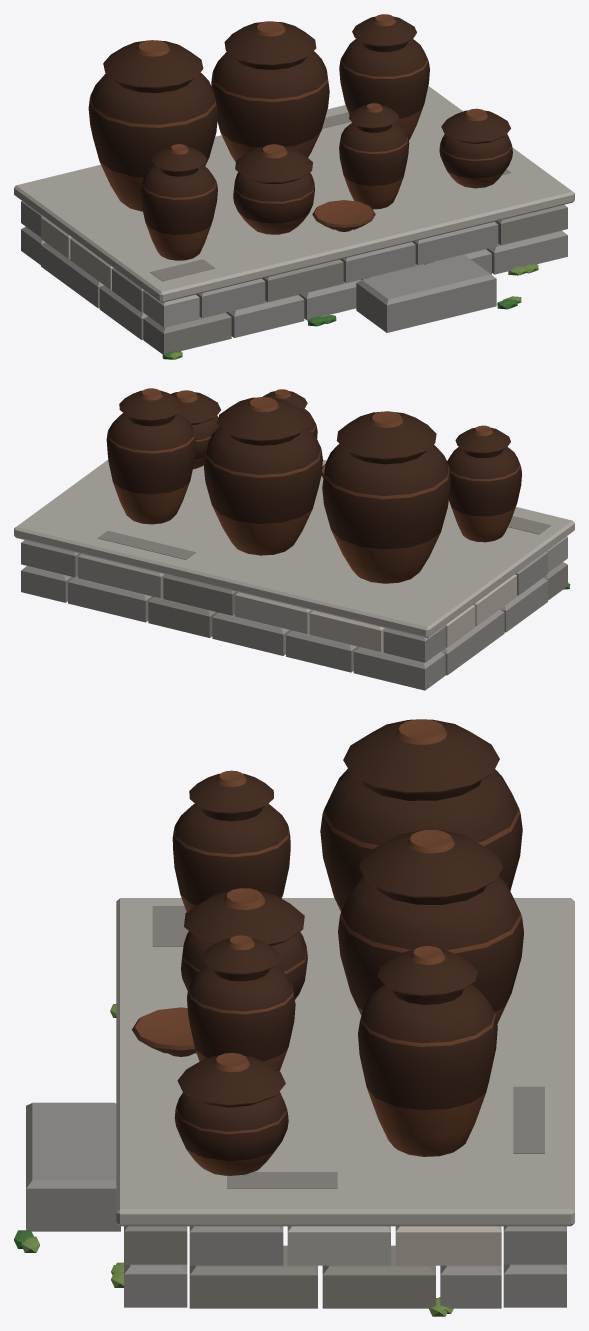
File: SC_Home_Jangdokdae.gltf
3 views of the same model, one above another, from view 1: azimuth 30°, elevation 25°; view 2: azimuth 150°, elevation 25°; view 3: azimuth 270°, elevation 25° (orthographic). The views are drawn at different scales.
Visible parts, largest first — view 1: SC_Home_Jangdokdae; view 2: SC_Home_Jangdokdae; view 3: SC_Home_Jangdokdae.
Boxes of the visible parts, x1=… form: SC_Home_Jangdokdae: x1=14, y1=14, x2=574, y2=359; SC_Home_Jangdokdae: x1=14, y1=388, x2=574, y2=690; SC_Home_Jangdokdae: x1=14, y1=719, x2=574, y2=1316.
Size of the model in its own units: 2.36 by 1.21 by 1.77.
Materials: 1 (1 with a texture image).
